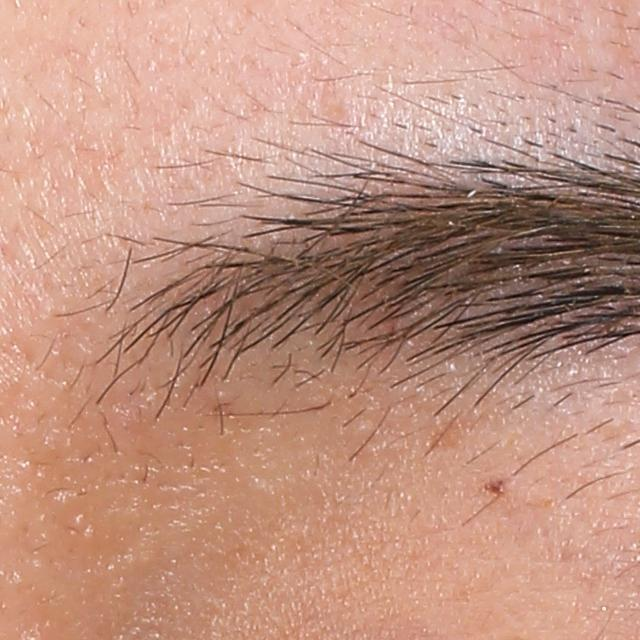nevus: (481, 478, 506, 493)
